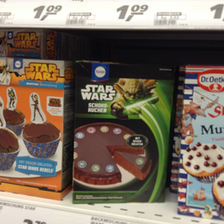cake: (72, 56, 170, 209), (1, 57, 70, 203)
